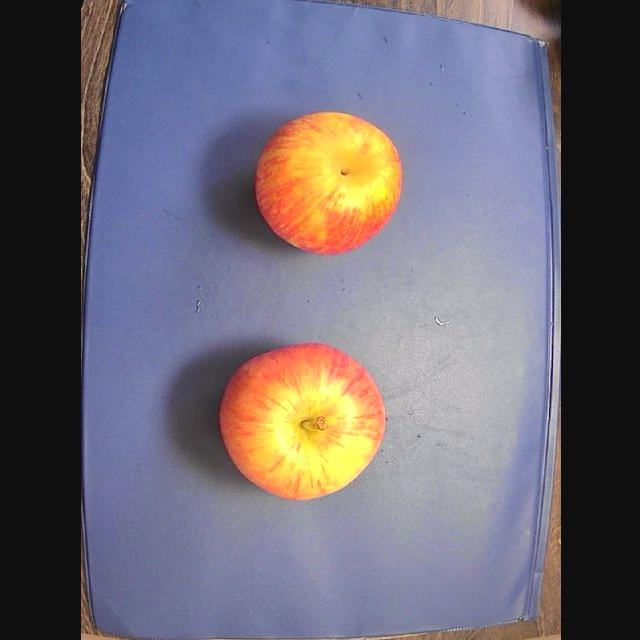manzana: (219, 344, 384, 499), (255, 113, 401, 255)
